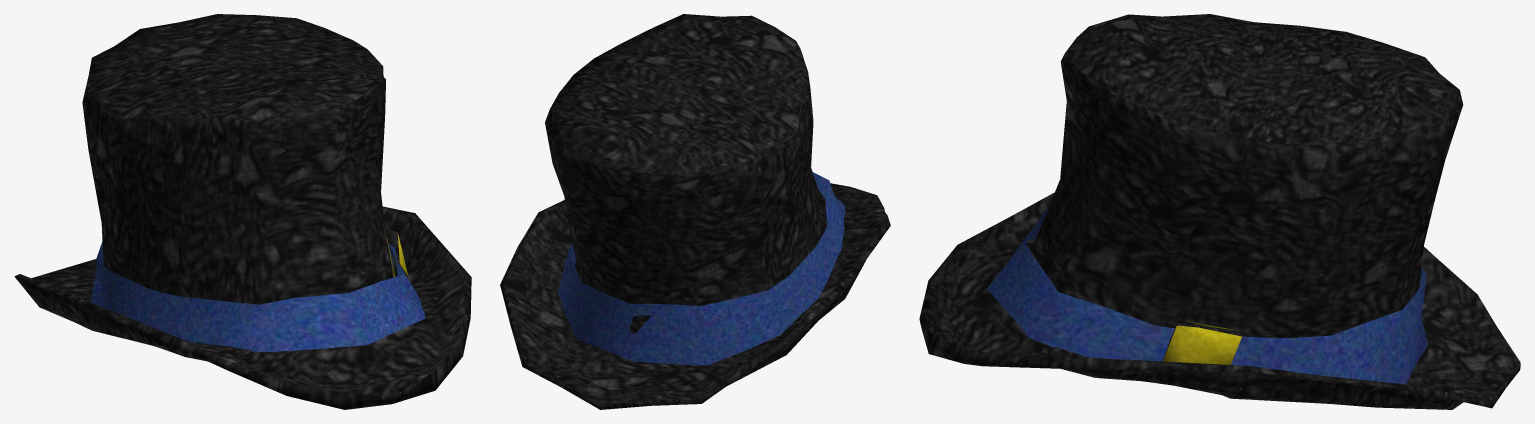
File: elvs-tophat1.glb
3 renders of one model, left to right at view 1: azimuth 30°, elevation 25°; view 2: azimuth 150°, elevation 25°; view 3: azimuth 270°, elevation 25°, orthographic. The views are drawn at different scales.
Visible parts, largest first — view 1: Human.elvs_tophat1; view 2: Human.elvs_tophat1; view 3: Human.elvs_tophat1.
Part boxes in pixels (left/top/right/bottom): Human.elvs_tophat1: left=14, top=14, right=471, bottom=409; Human.elvs_tophat1: left=500, top=14, right=890, bottom=409; Human.elvs_tophat1: left=919, top=14, right=1520, bottom=409.
Size of the model in its own units: 0.2463 by 0.2029 by 0.3252.
Materials: 1 (1 with a texture image).
